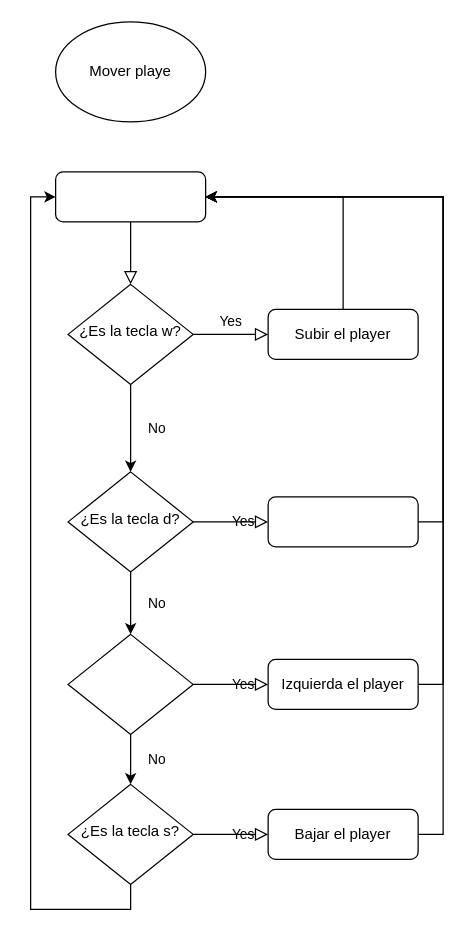
Image size: 475x941. Some labels were removed from this diagram. The shapes that lost their labels are listed below. From the top down, each one's box as (x1, y1, x2, y2) in pixels, then its label:
(54, 171, 206, 222): Evento KEYDOWN
(267, 496, 418, 547): Derecha el player
(67, 633, 193, 734): ¿Es la tecla a?
